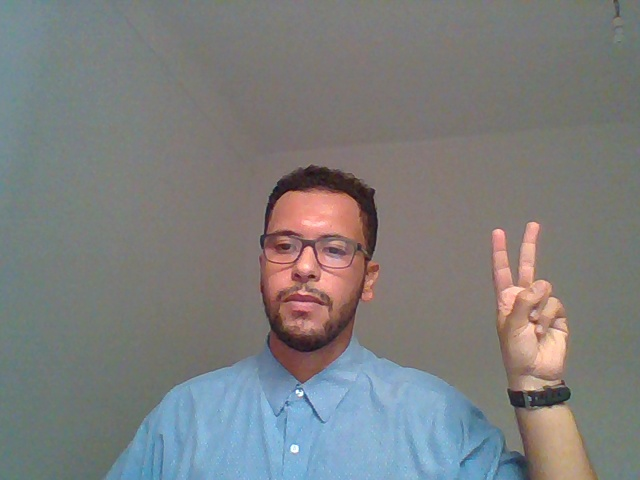vectory: (466, 206, 604, 466)
